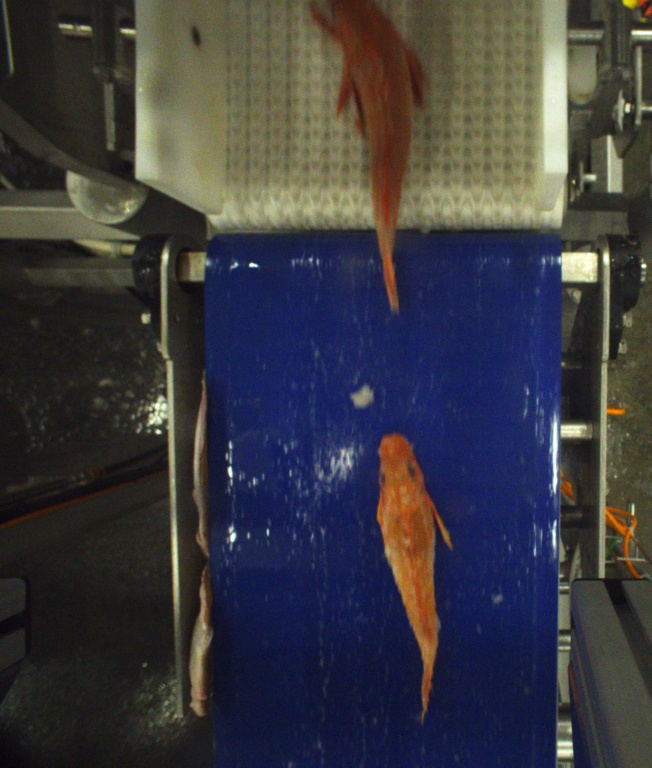GUU: (375, 433, 450, 718)
